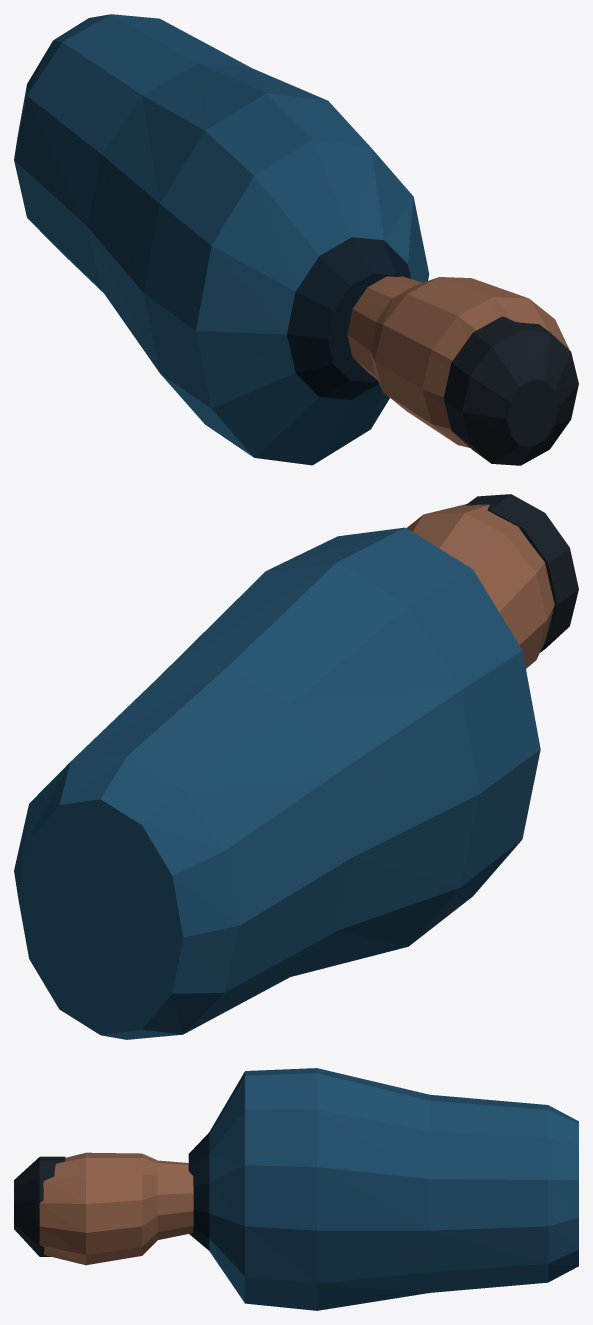
The model's file is SM_RowerTorso.obj.
The picture shows the model from 3 angles, top to bottom: view 1: azimuth 30°, elevation 25°; view 2: azimuth 150°, elevation 25°; view 3: azimuth 270°, elevation 25°; orthographic projection. The views are drawn at different scales.
Parts seen in each view (by area): view 1: SM_RowerTorso; view 2: SM_RowerTorso; view 3: SM_RowerTorso.
Boxes of the visible parts, x1,y1,x2,y2 form: SM_RowerTorso: (14, 14, 578, 465); SM_RowerTorso: (14, 494, 578, 1039); SM_RowerTorso: (14, 1068, 578, 1310).
Size of the model in its own units: 39 by 50 by 110.
